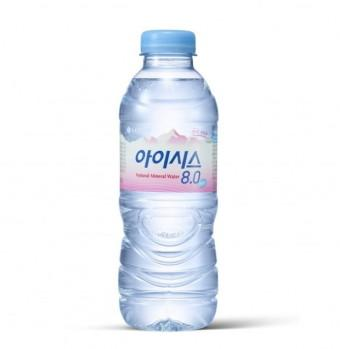pet: (101, 18, 244, 342)
